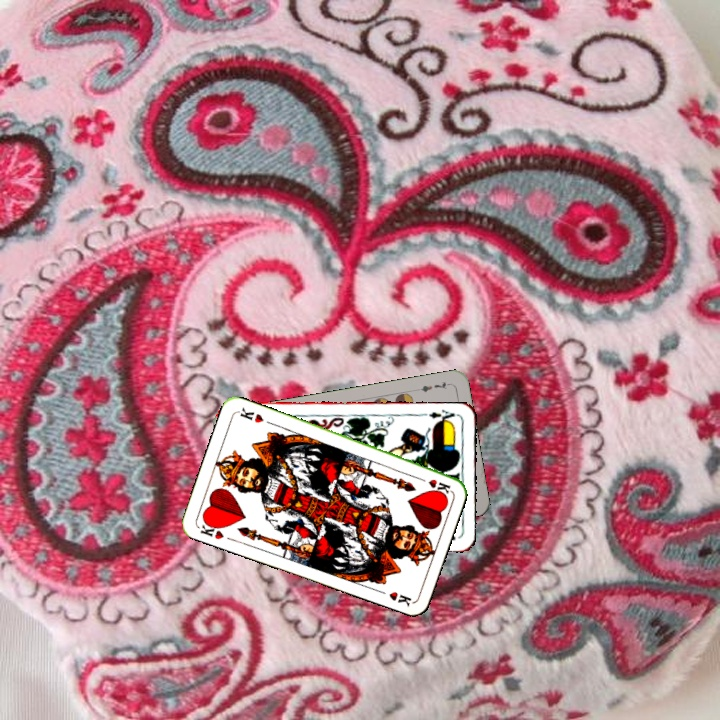E7: (417, 377, 453, 395)
EA: (419, 406, 459, 426)
HK: (413, 473, 453, 495), (195, 516, 226, 542)
